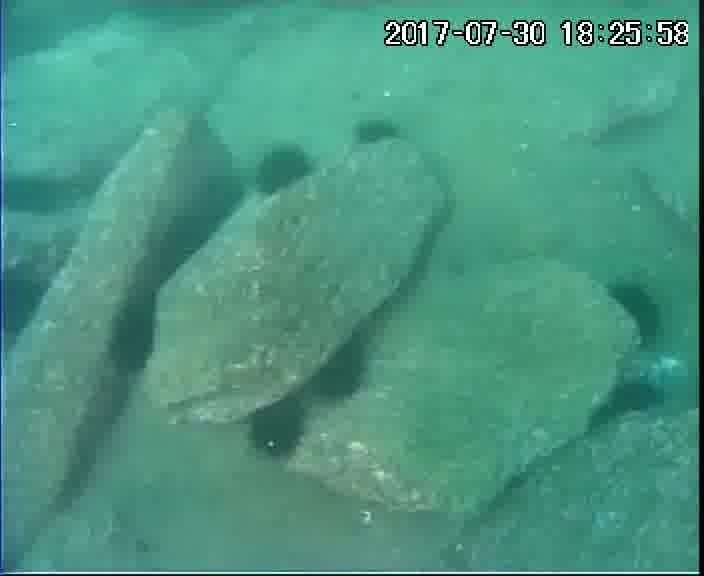echinus: (141, 208, 227, 295), (102, 292, 164, 381), (305, 334, 373, 408), (603, 276, 669, 351), (242, 394, 311, 464), (1, 263, 53, 350), (250, 141, 317, 202), (188, 169, 250, 230), (1, 168, 68, 223), (600, 373, 667, 426), (355, 117, 398, 144)
